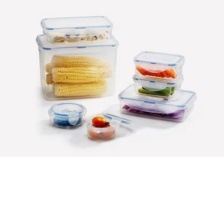plastic_box: (31, 10, 124, 104), (114, 79, 200, 126), (127, 44, 189, 104), (81, 108, 139, 145), (44, 97, 91, 132)
